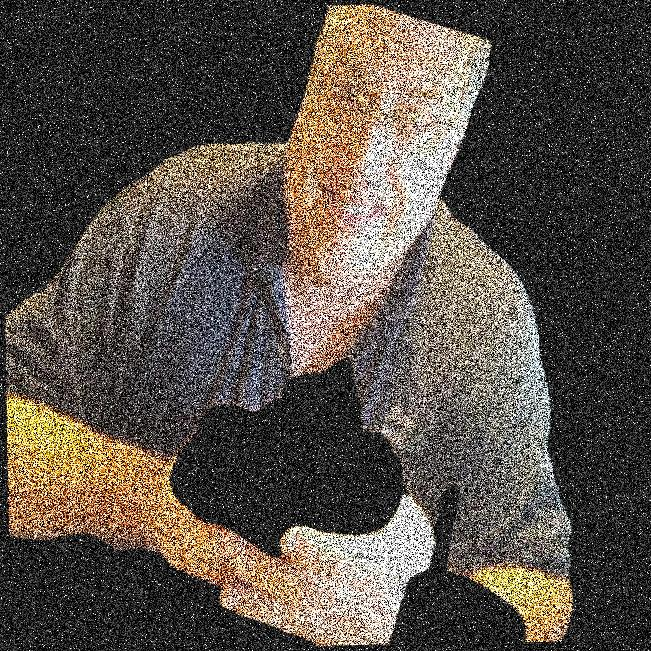Pessoa: (8, 0, 650, 650)
